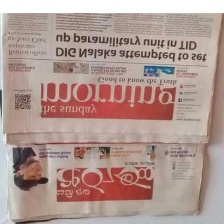news_paper: (0, 13, 224, 144), (1, 133, 214, 223)
